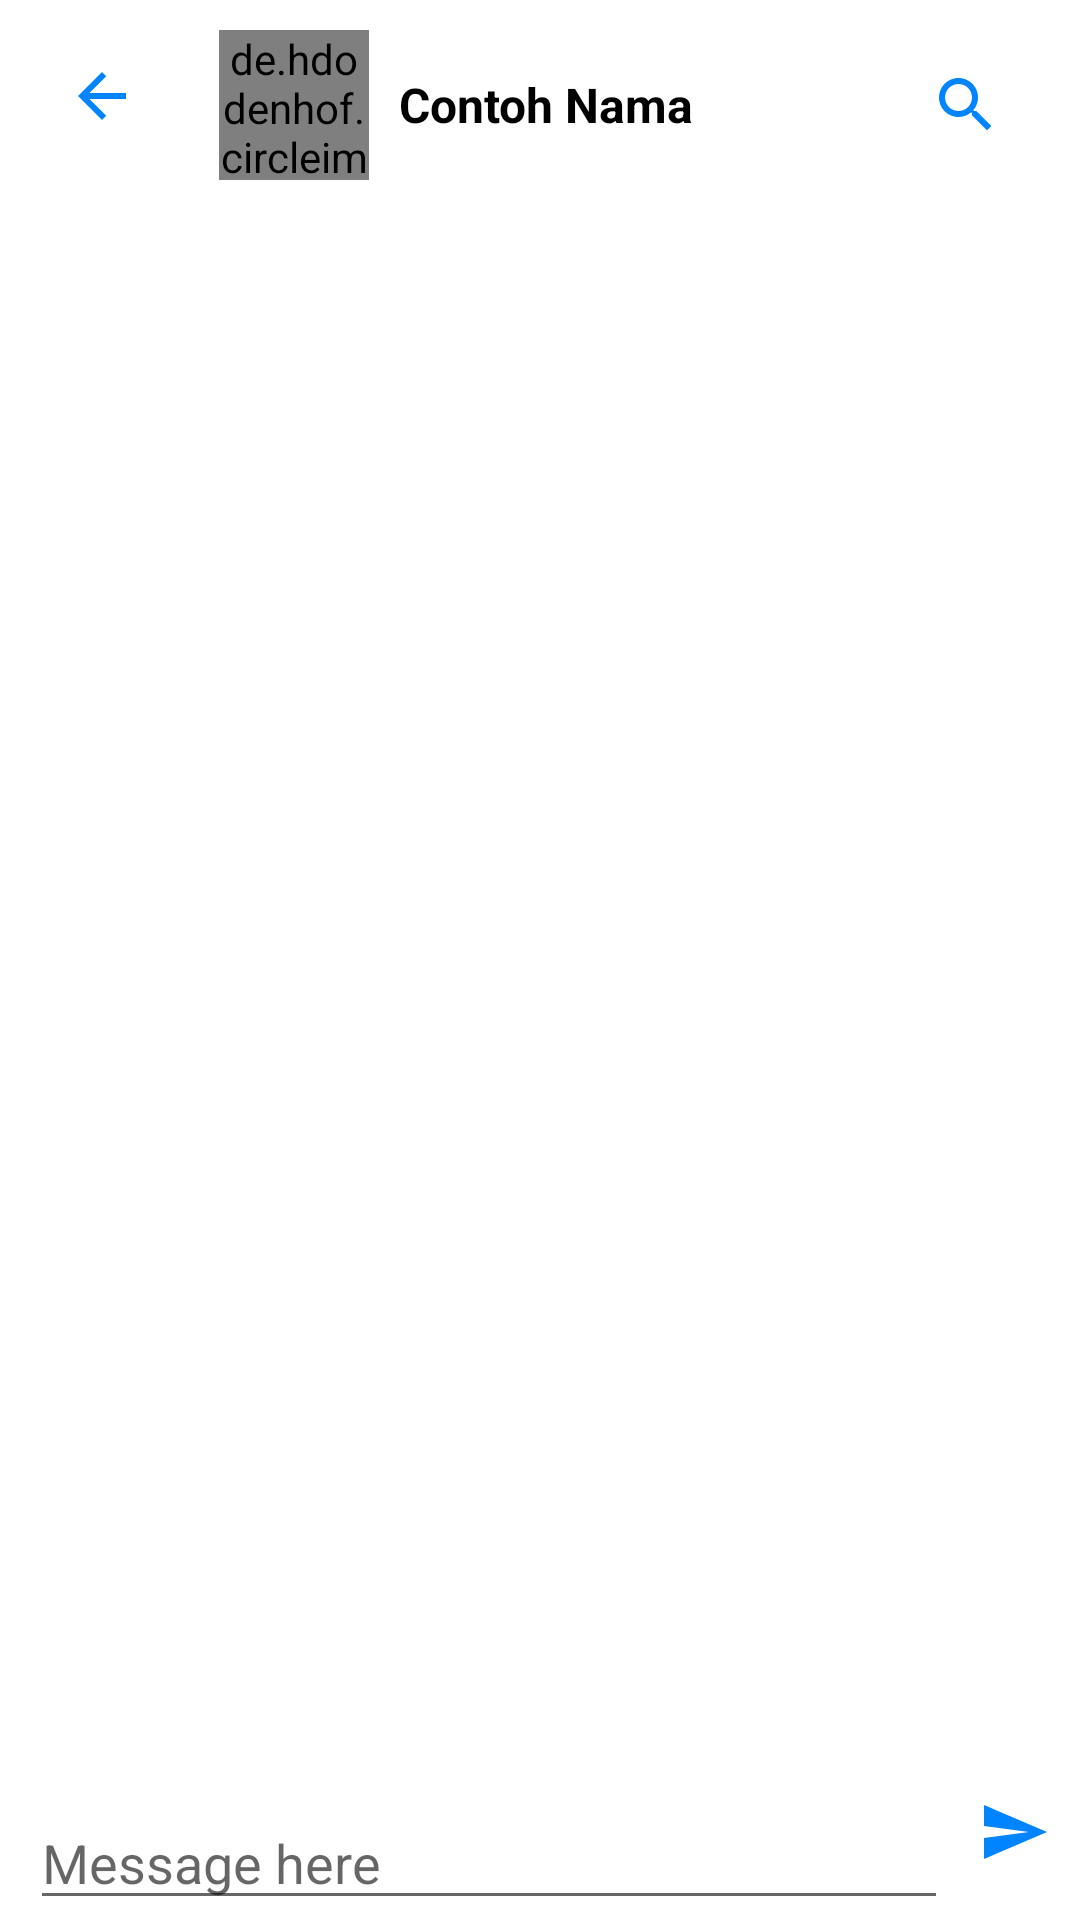

Screen size 1080×1920. Icon name, then its center in pixels as [x,y]:
back: [102,96]
search: [965,104]
send message: [1015,1832]
